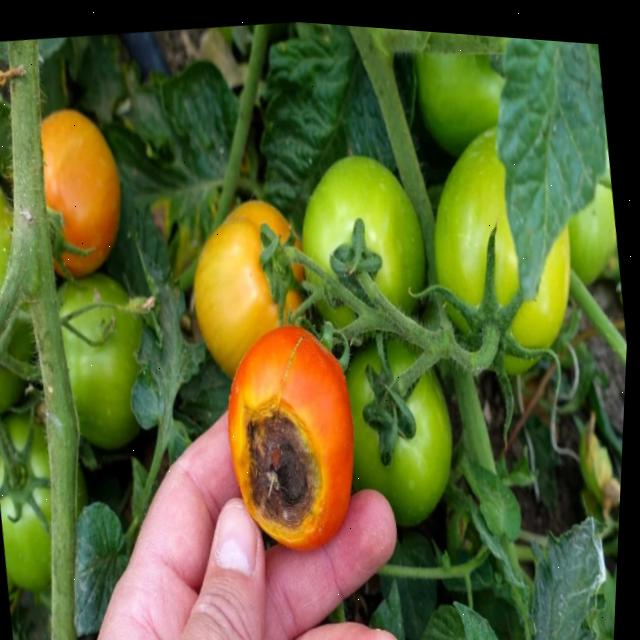damaged: (207, 307, 381, 557)
fine: (175, 157, 326, 389)
overripe: (0, 93, 151, 303)
unripe: (408, 81, 595, 379), (285, 131, 445, 346), (333, 325, 474, 529), (52, 267, 167, 456), (0, 400, 94, 599), (0, 151, 46, 406)
